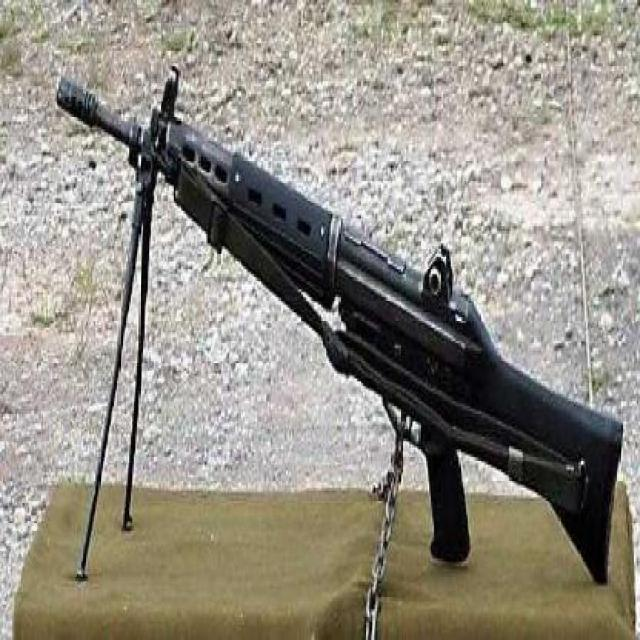weapon: (53, 75, 629, 587)
